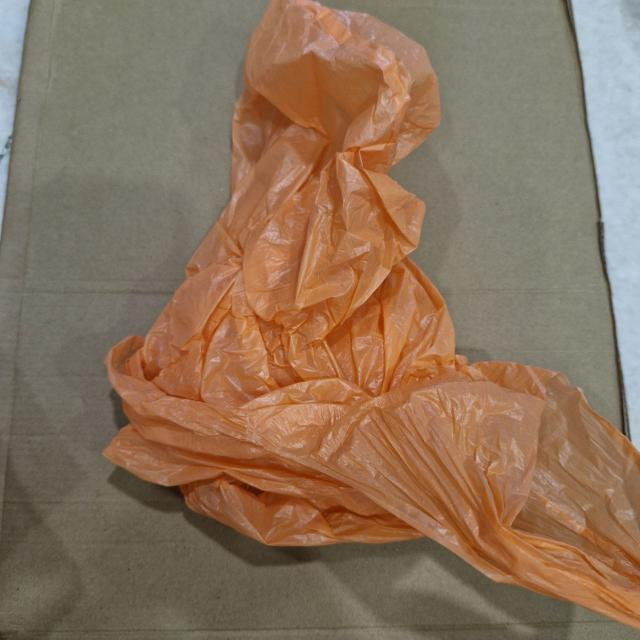plastic: (95, 9, 621, 566)
